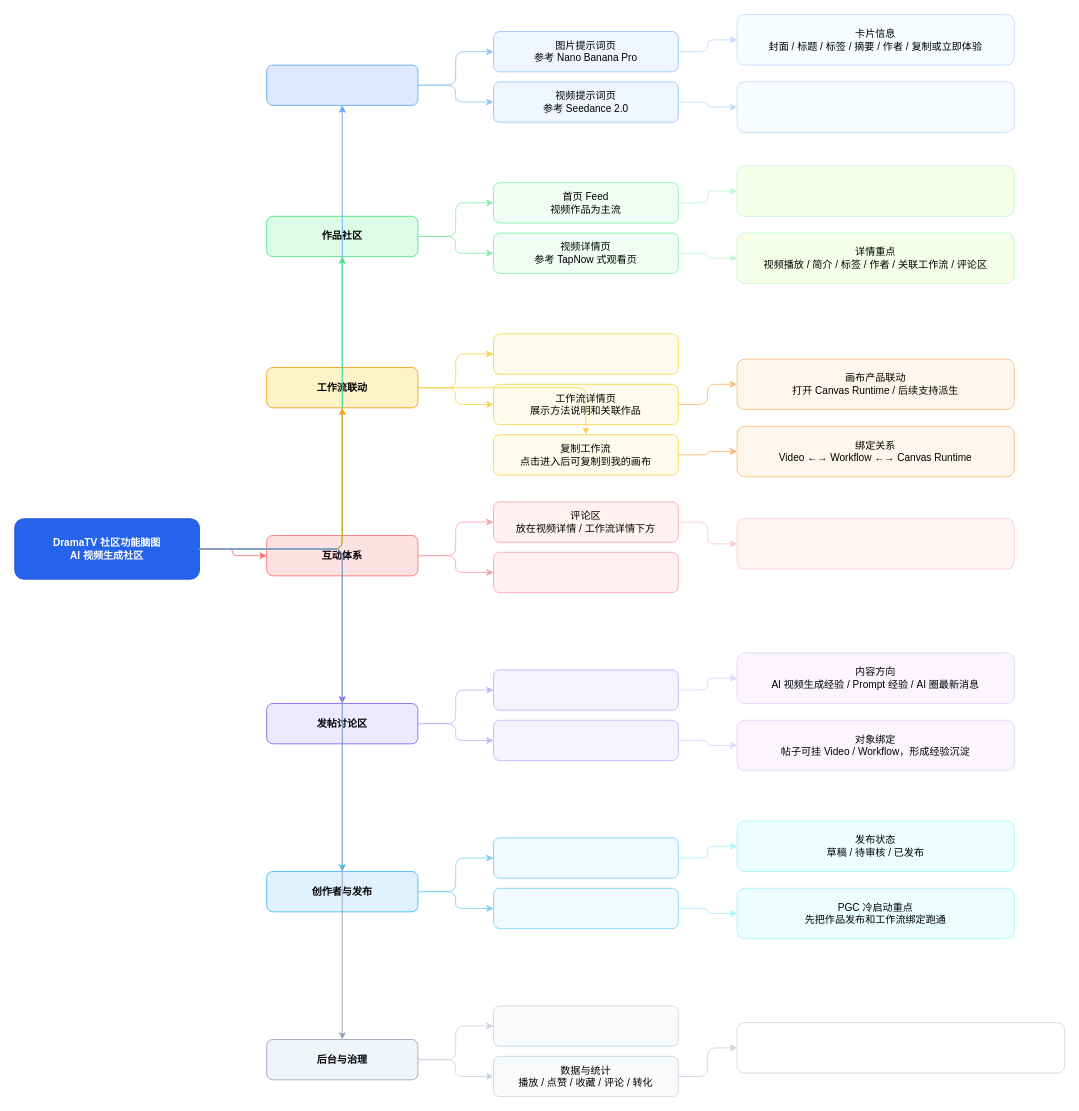
The diagram is 1079 pixels wide and 1111 high, and some of its shapes have lost their labels. The shapes that lost their labels are listed below. From the top down, each one's centre as x and y in pixels, then its label:
the point at 342,84: 提示词内容库
the point at 875,106: 详情能力 查看完整提示词 / 一键复制 / 分类筛选 / 排序 / 下载
the point at 875,190: 作品卡重点 封面 / 标题 / 作者 / 标签 / 关联工作流入口
the point at 585,353: 视频绑定工作流 发布时完成绑定
the point at 875,543: 最小闭环 发评论 / 看回复数 / 点赞收藏 / 关注作者
the point at 585,572: 点赞 / 收藏 / 关注
the point at 585,689: 讨论首页 帖子流 / 分区 / 最新消息
the point at 585,740: 帖子详情页 正文 / 回复 / 绑定对象
the point at 585,857: 发布页 上传视频 + 绑定工作流 + 标签 + 分区
the point at 585,908: 作者主页 作品流 + 作者信息 + 关注
the point at 585,1025: 审核与风控 上传校验 / 评论审核 / 内容状态流转
the point at 900,1047: 技术边界 Next.js + Spring Boot + Python Worker + PostgreSQL + Redis + Queue
